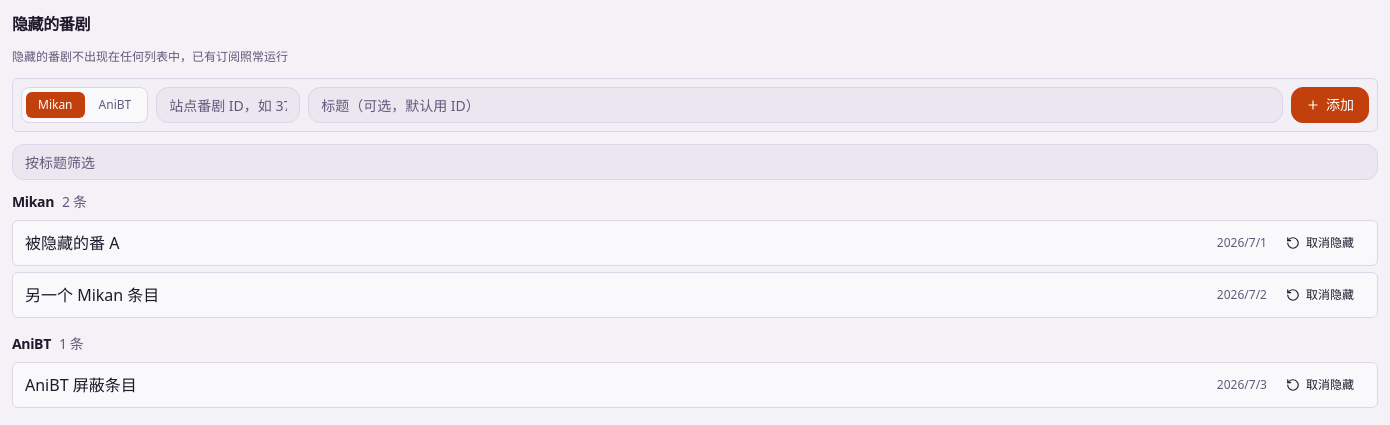
Test: HiddenAnimeSettings › 筛选无匹配时只显示一个无匹配状态
In the field labelled "按标题筛选": (695, 162) [12,144,1378,180], type "不存在"
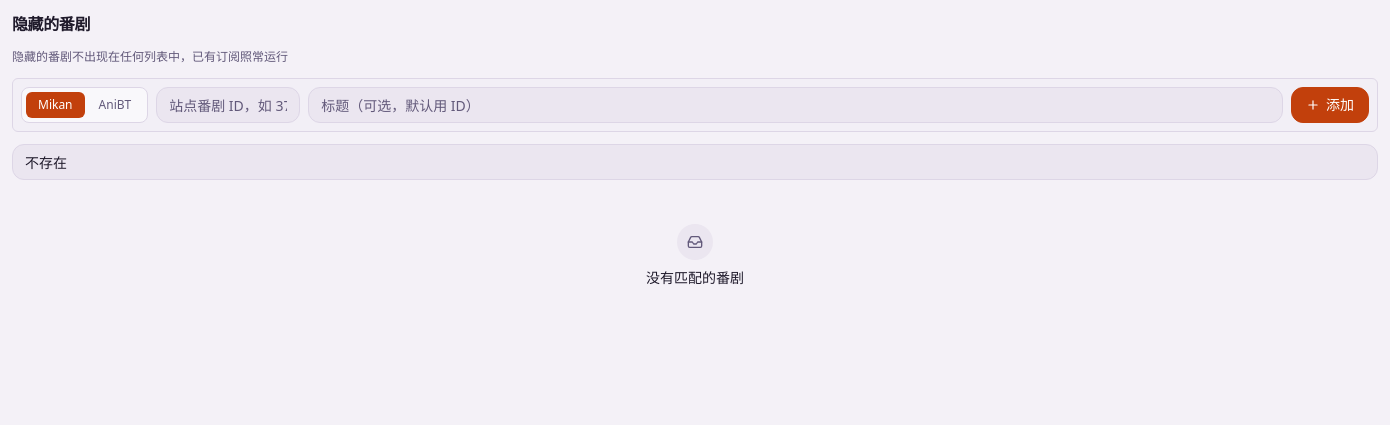
Check: the text "没有匹配的番剧" is shown, box [646,268,744,288]
